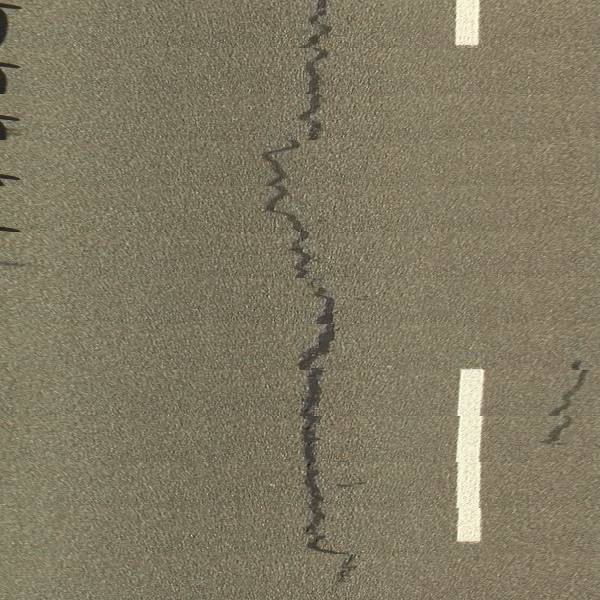road_damage: (259, 144, 362, 589), (297, 1, 334, 144), (536, 357, 592, 450)
